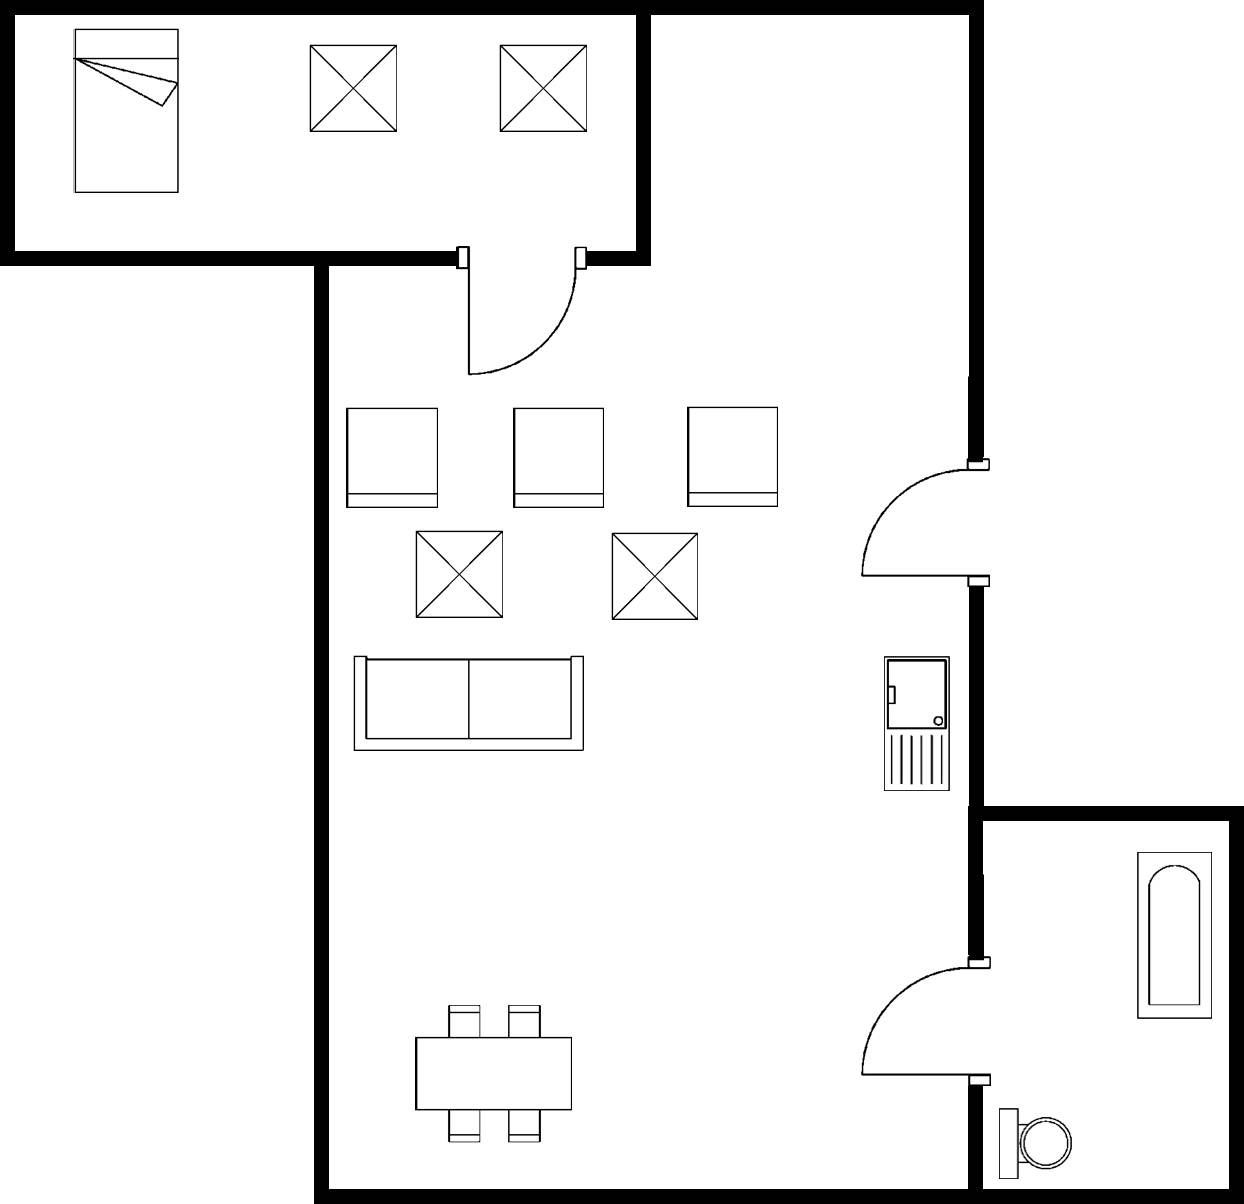bed: (65, 20, 186, 206)
coffee_table: (302, 36, 406, 145), (404, 522, 515, 625), (603, 526, 705, 629), (491, 40, 594, 140)
dining_table: (409, 994, 583, 1148)
large_sink: (992, 1100, 1078, 1185)
large_sofa: (345, 648, 592, 765)
sink: (877, 648, 957, 800)
small_sofa: (503, 400, 612, 516), (341, 400, 446, 515), (681, 401, 785, 515)
tub: (1123, 841, 1221, 1028)
